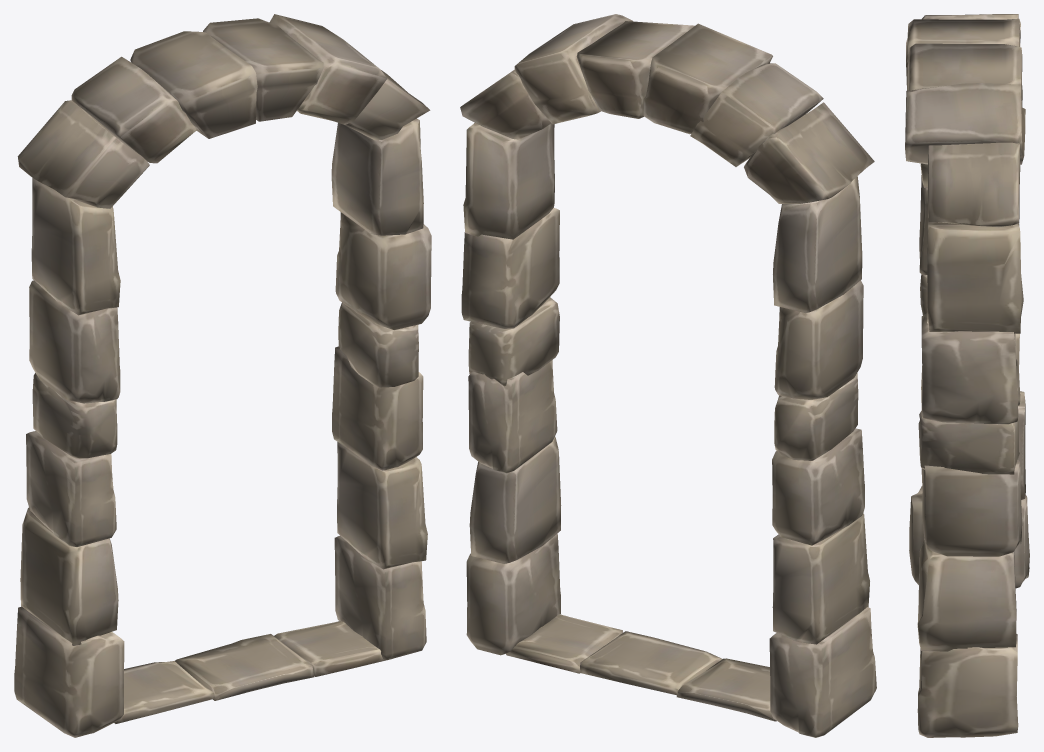
The model's file is DoorFrame_Round_Brick.glb.
3 views of the same model, side by side, from view 1: azimuth 30°, elevation 25°; view 2: azimuth 150°, elevation 25°; view 3: azimuth 270°, elevation 25° (orthographic). The views are drawn at different scales.
Visible parts, largest first — view 1: DoorFrame_Round_Brick; view 2: DoorFrame_Round_Brick; view 3: DoorFrame_Round_Brick.
Boxes of the visible parts, <box> form: DoorFrame_Round_Brick: <box>14,14,431,737</box>; DoorFrame_Round_Brick: <box>460,14,876,737</box>; DoorFrame_Round_Brick: <box>905,14,1029,737</box>.
Size of the model in its own units: 1.6 by 2.59 by 0.477.
Materials: 1 (1 with a texture image).
